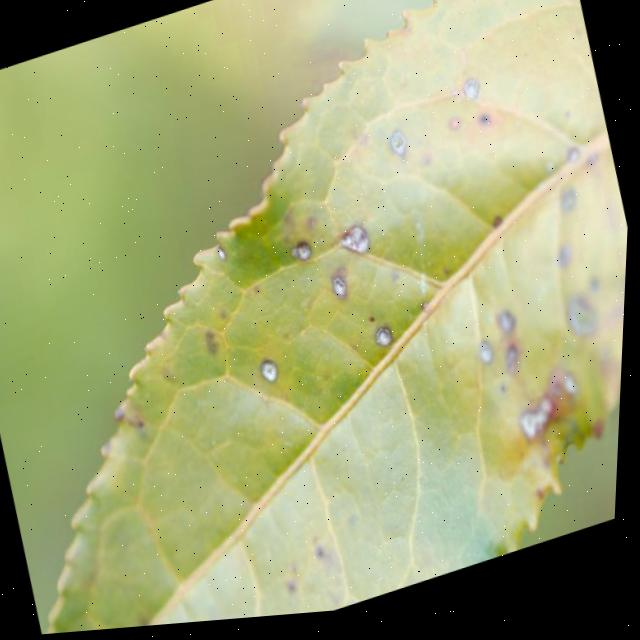Tea red scab: (332, 216, 380, 275), (288, 230, 323, 286), (497, 306, 532, 353), (384, 131, 413, 175), (260, 353, 287, 399), (374, 326, 405, 364), (456, 78, 486, 113), (330, 280, 358, 312)
